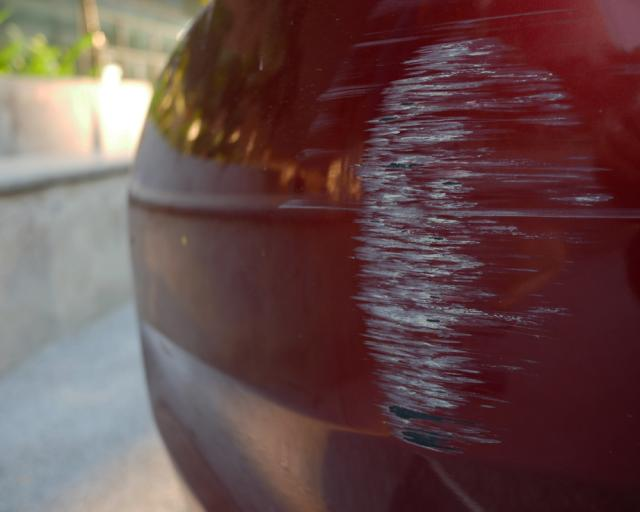scratch: (280, 4, 620, 457)
